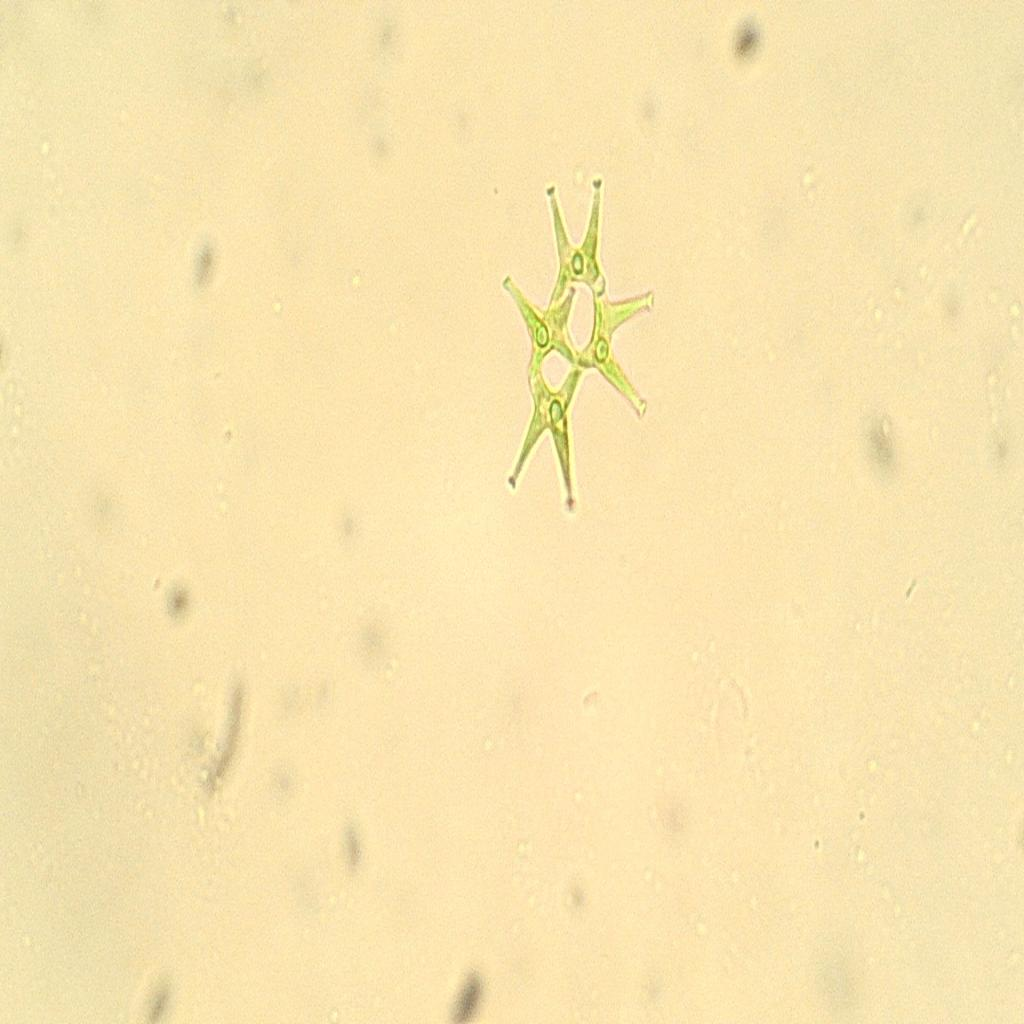Pediastrum_CF: (498, 156, 658, 560)
